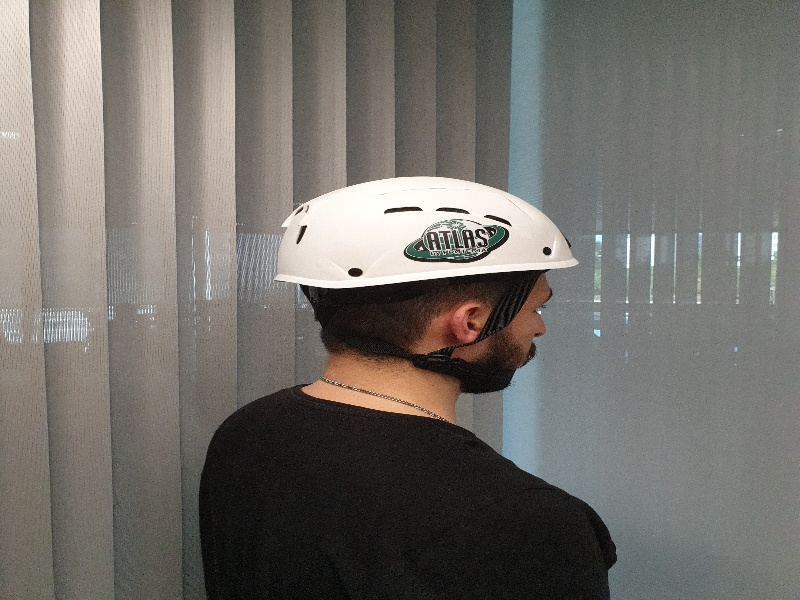Baret: (280, 180, 581, 280)
